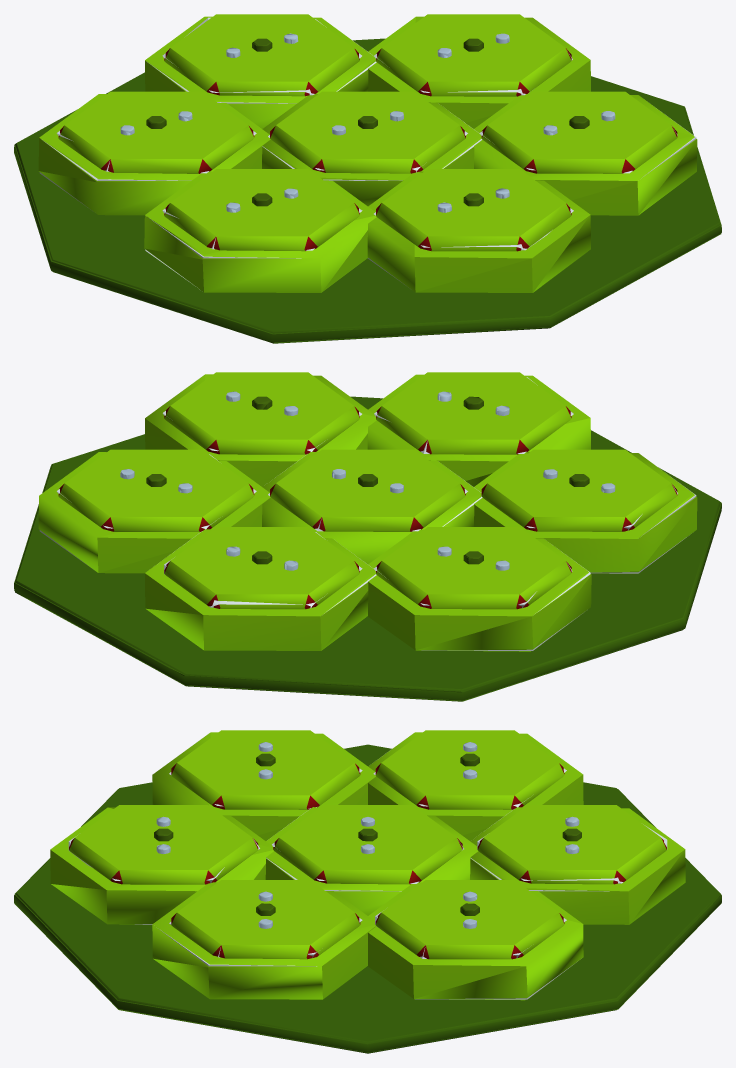
Rendered from RCLModule_bastion_siege_mech_cryo_glacier_camo_era_LODs.fbx.
The picture shows the model from 3 angles, top to bottom: view 1: azimuth 30°, elevation 25°; view 2: azimuth 150°, elevation 25°; view 3: azimuth 270°, elevation 25°; orthographic projection. The views are drawn at different scales.
Parts seen in each view (by area): view 1: LOD1_RCLModule_bastion_siege_mech_cryo_glacier_camo_era_Batc (×3), LOD2_RCLModule_bastion_siege_mech_cryo_glacier_camo_era_Batc (×2); view 2: LOD1_RCLModule_bastion_siege_mech_cryo_glacier_camo_era_Batc (×3), LOD2_RCLModule_bastion_siege_mech_cryo_glacier_camo_era_Batc (×2); view 3: LOD1_RCLModule_bastion_siege_mech_cryo_glacier_camo_era_Batc (×3), LOD2_RCLModule_bastion_siege_mech_cryo_glacier_camo_era_Batc (×2).
Boxes of the visible parts, bbox=[...] form: LOD1_RCLModule_bastion_siege_mech_cryo_glacier_camo_era_Batc (×3): bbox=[14, 14, 721, 343]; LOD2_RCLModule_bastion_siege_mech_cryo_glacier_camo_era_Batc (×2): bbox=[14, 17, 721, 343]; LOD1_RCLModule_bastion_siege_mech_cryo_glacier_camo_era_Batc (×3): bbox=[14, 372, 721, 701]; LOD2_RCLModule_bastion_siege_mech_cryo_glacier_camo_era_Batc (×2): bbox=[14, 375, 721, 701]; LOD1_RCLModule_bastion_siege_mech_cryo_glacier_camo_era_Batc (×3): bbox=[14, 730, 721, 1053]; LOD2_RCLModule_bastion_siege_mech_cryo_glacier_camo_era_Batc (×2): bbox=[14, 733, 721, 1052].
Size of the model in its own units: 47.85 by 5.48 by 47.85.
